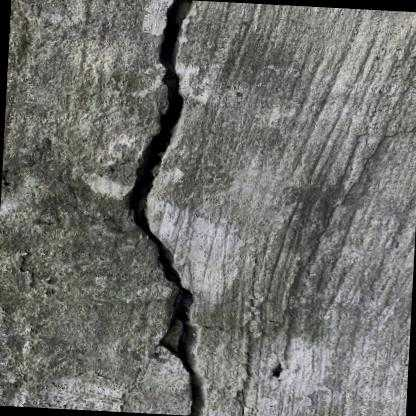crack: (121, 0, 211, 416)
